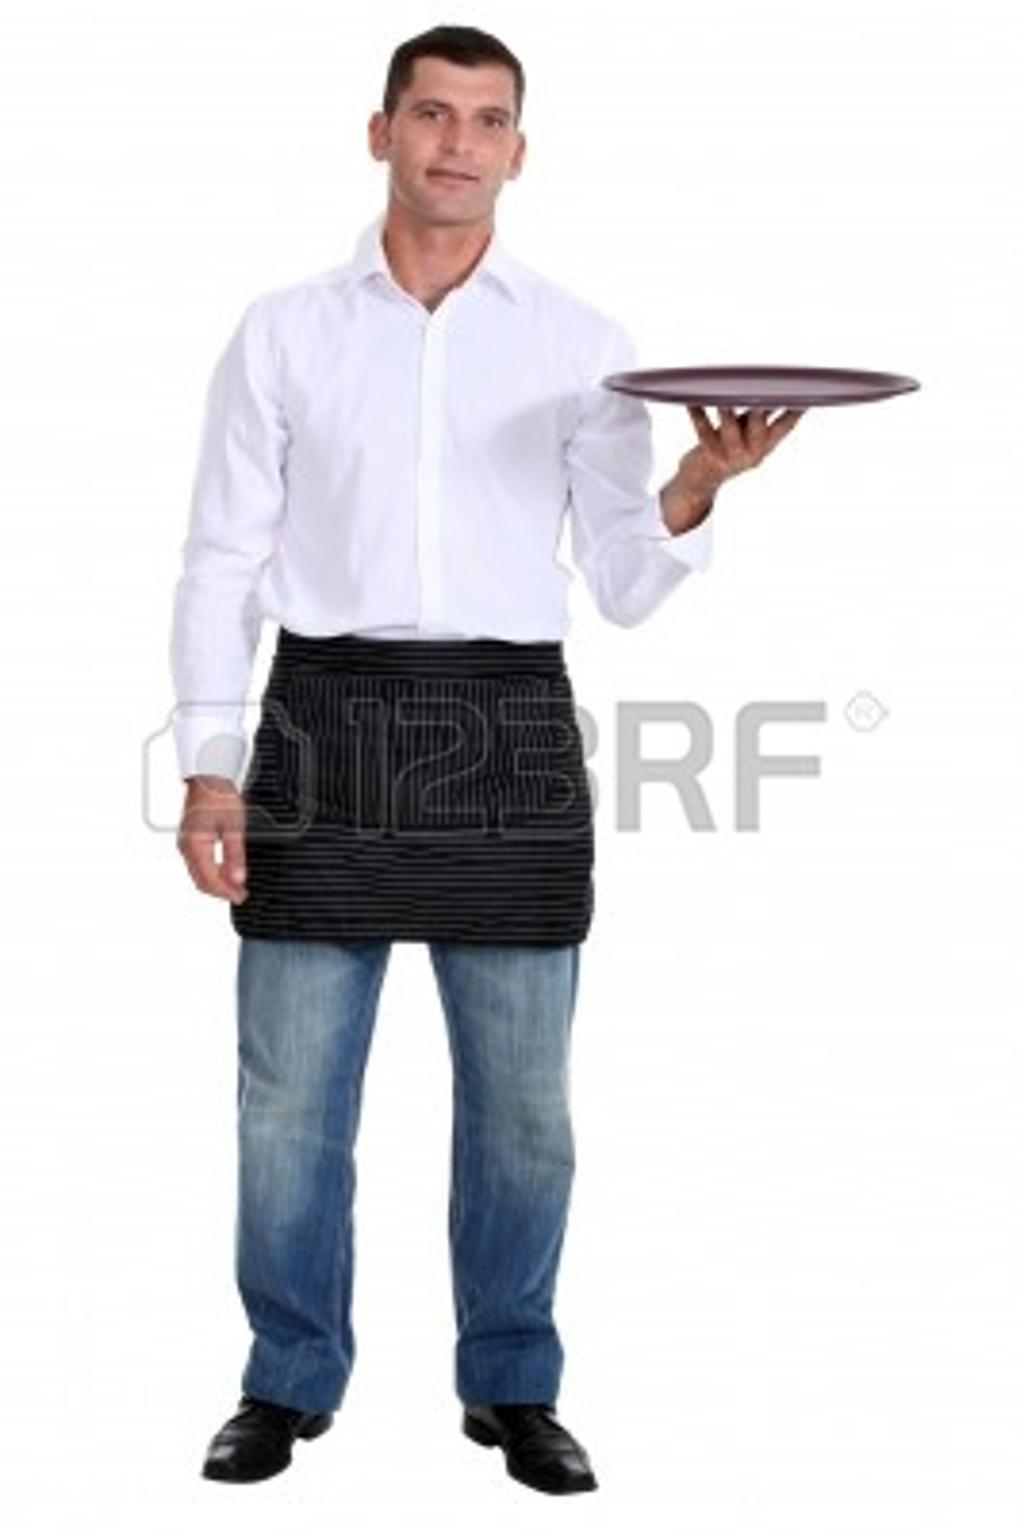face: (392, 57, 518, 225)
